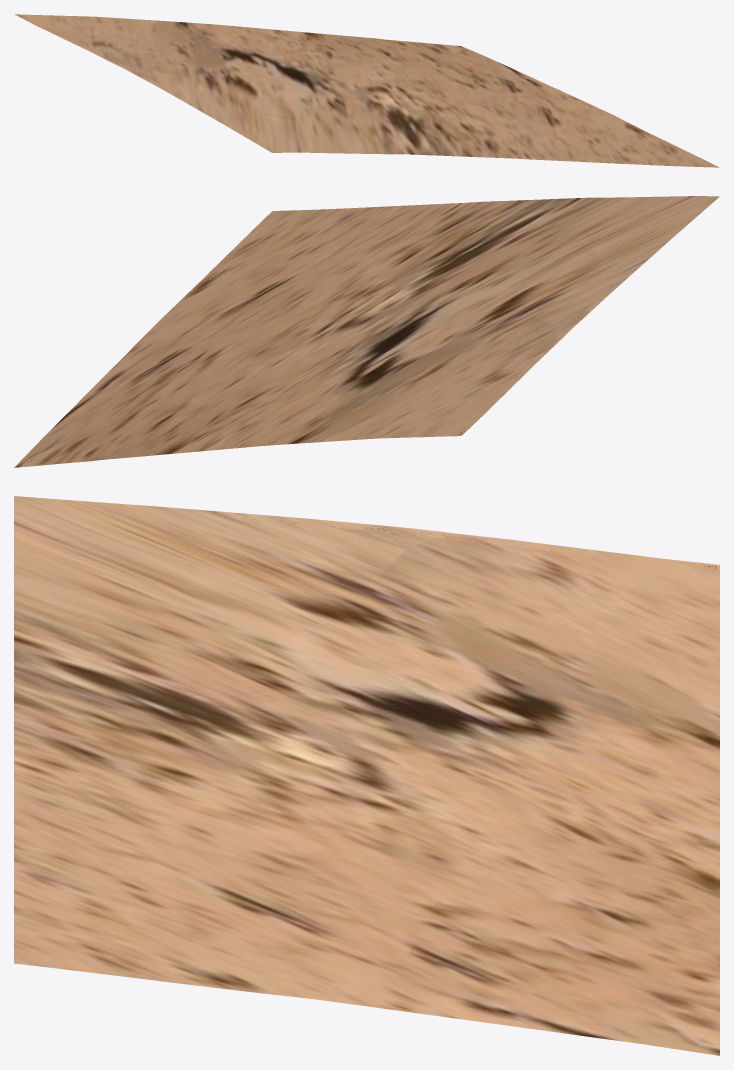
The picture shows the model from 3 angles, top to bottom: view 1: azimuth 30°, elevation 25°; view 2: azimuth 150°, elevation 25°; view 3: azimuth 270°, elevation 25°; orthographic projection. The views are drawn at different scales.
Size of the model in its own units: 2.09 by 0.8537 by 2.09.
Materials: 3 (3 with a texture image).
